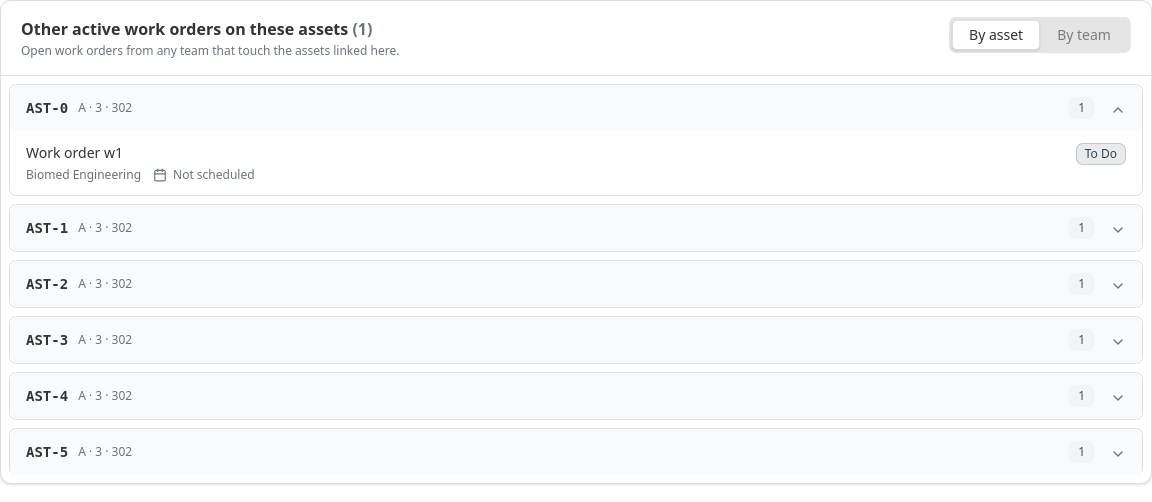
Test: OtherAssetWorkOrdersCard › caps the asset chips on a row and collapses the rest into +N more
Click the radio button labelled "By team" at {"x": 1084, "y": 35}, box [1040,20,1128,50]
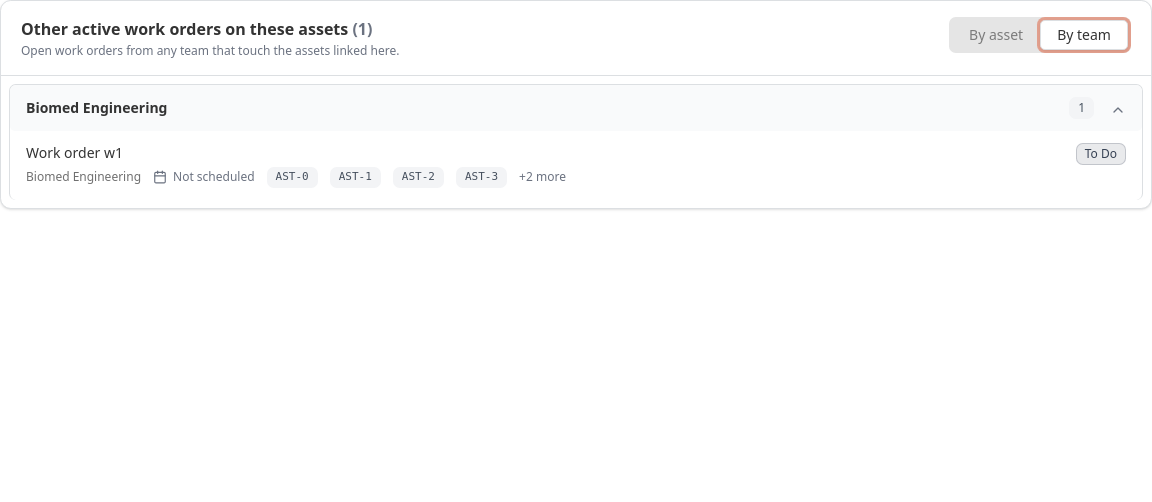
expect the text "AST-3" is shown: met, box [456,167,507,188]
expect the button "AST-4" is gone: met
